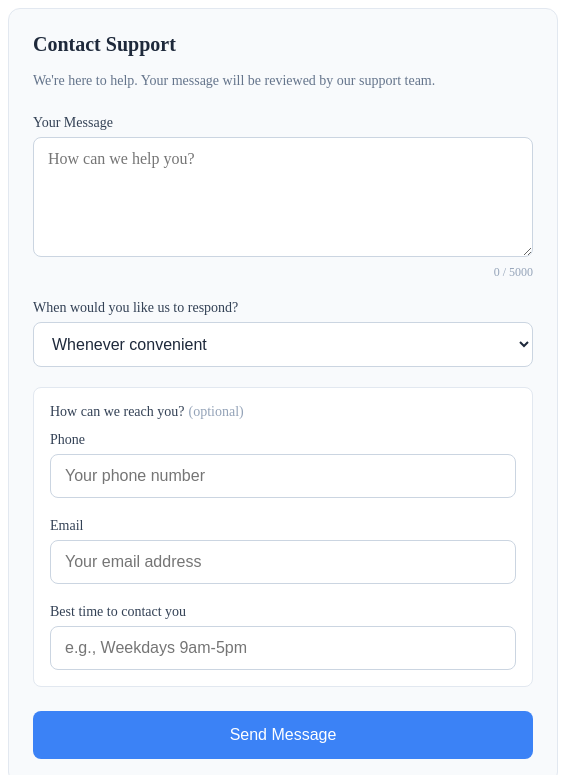
SafetyContactForm › Preferred contact method › should show preferred contact options when phone or email is entered
Get the phone input field using its id
Type "555-1234" into the field with placeholder "Your phone number" at (283, 476), box [50,454,516,498]
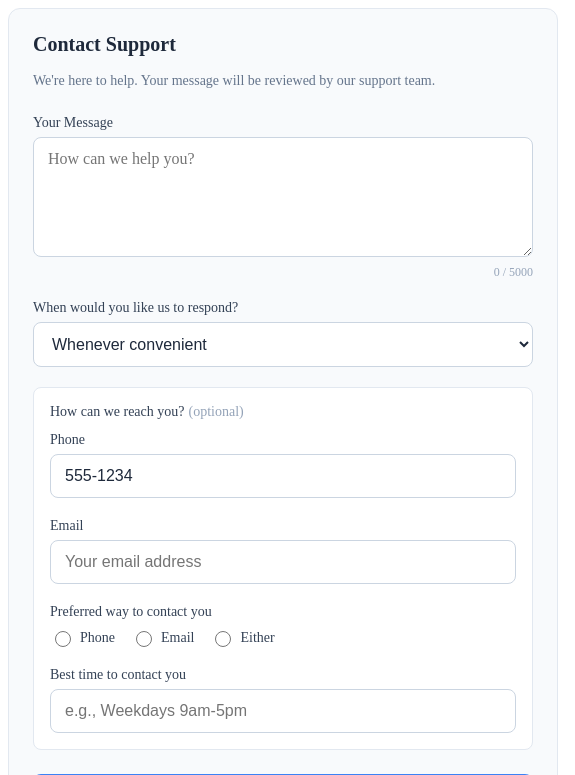
Expected: the text "Preferred way to contact you" is shown, [50,604,212,619]
Expected: the radio button labelled "Phone" is shown, [55,631,71,647]
Expected: the radio button labelled "Email" is shown, [136,631,152,647]
